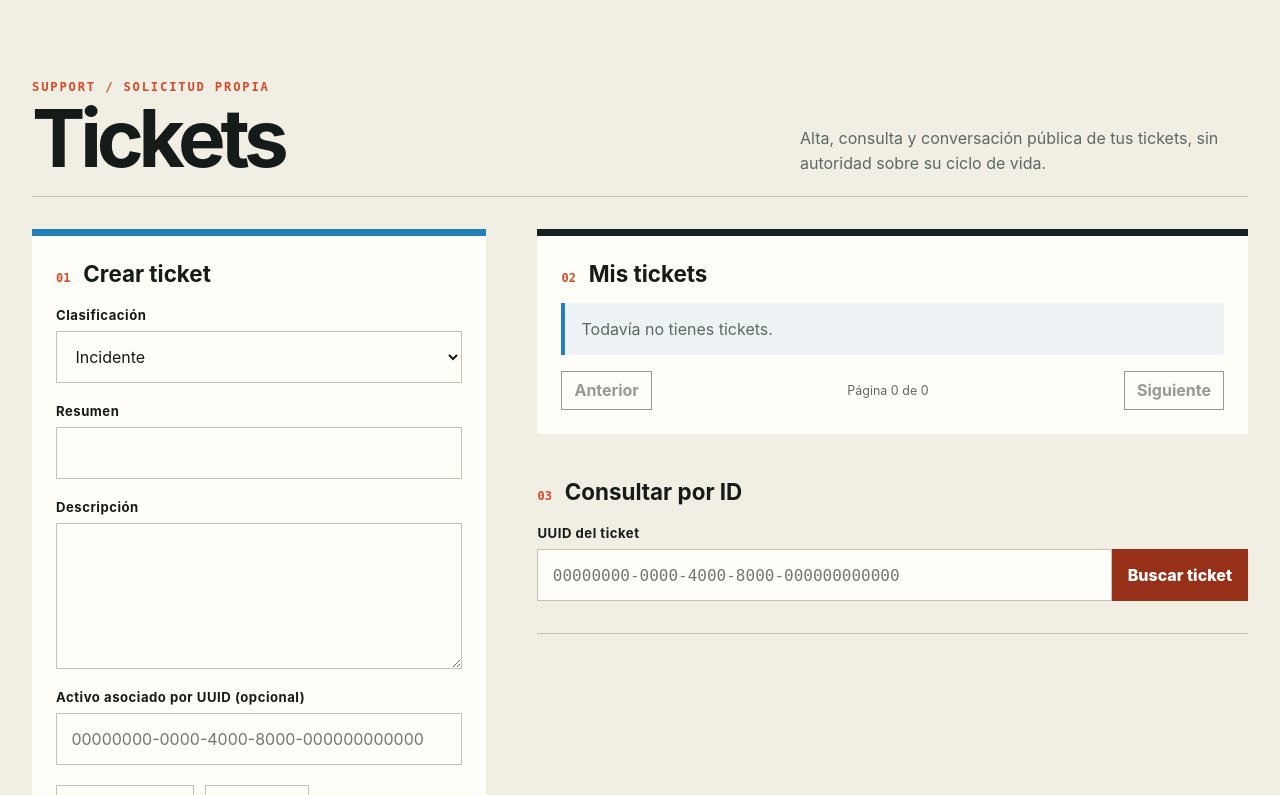
Scenario: TicketWorkspace › validates optional asset and lookup identifiers before requesting
Expected: the text "Todavía no tienes tickets." is shown, [562, 303, 1224, 355]
Type "Printer unavailable" into the field labelled "Resumen" at x=259, y=453, box [56, 427, 462, 479]
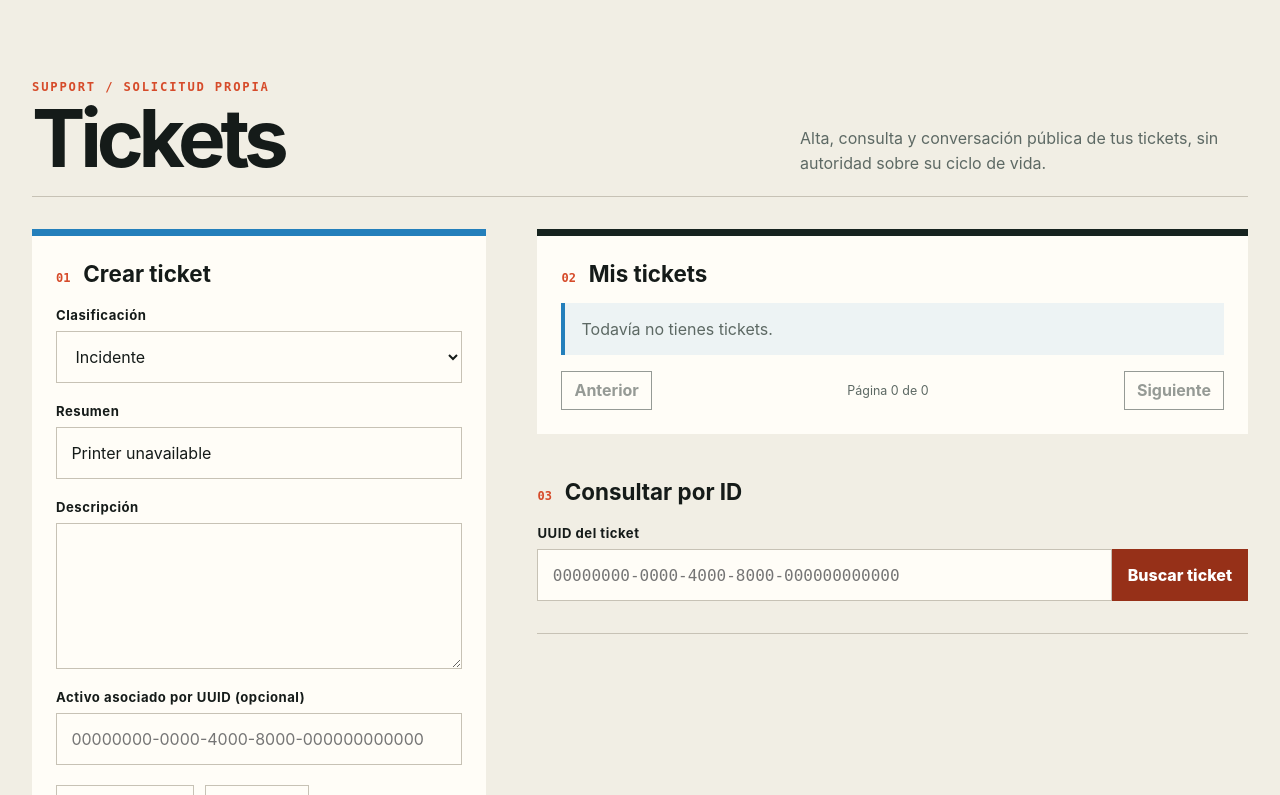
Type "The reception printer is offline." into the text box labelled "Descripción" at x=259, y=596, box [56, 523, 462, 669]
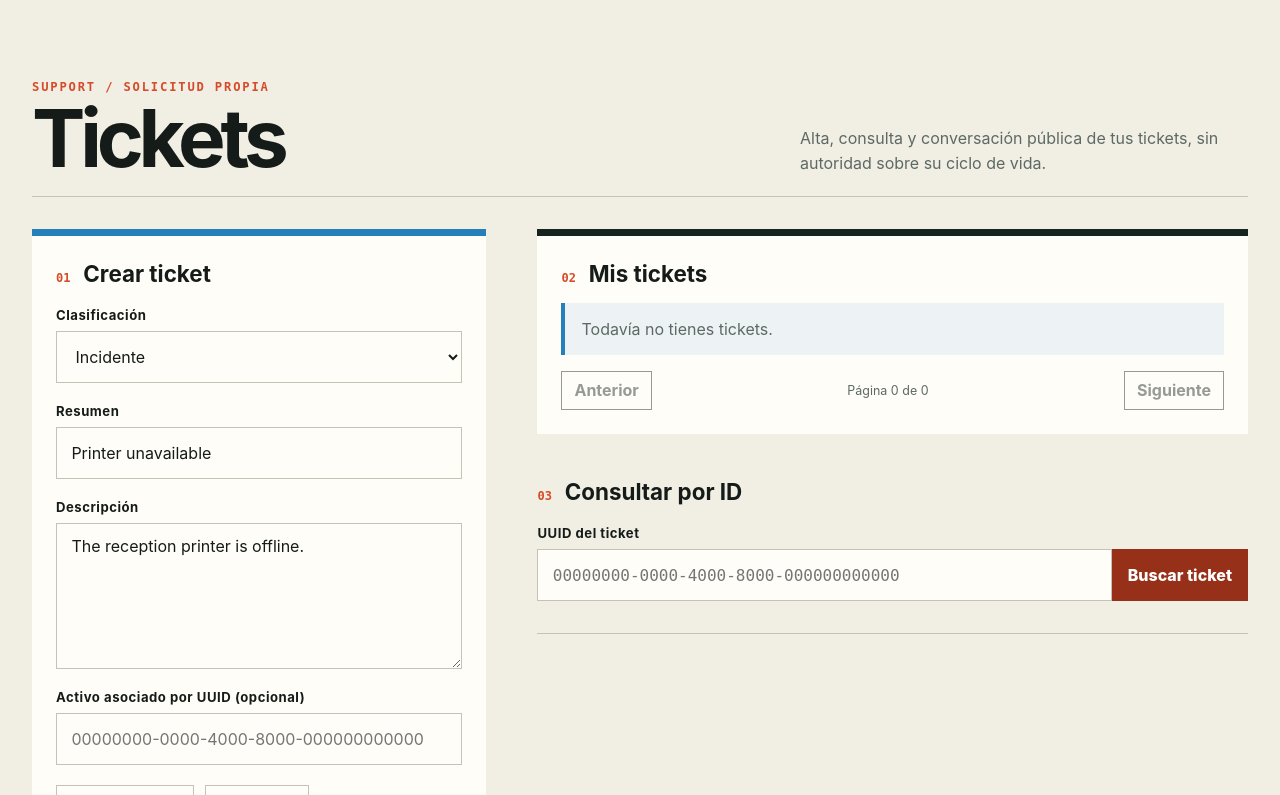
Type "invalid" into the field labelled "Activo asociado por UUID (opcional)" at x=259, y=739, box [56, 713, 462, 765]
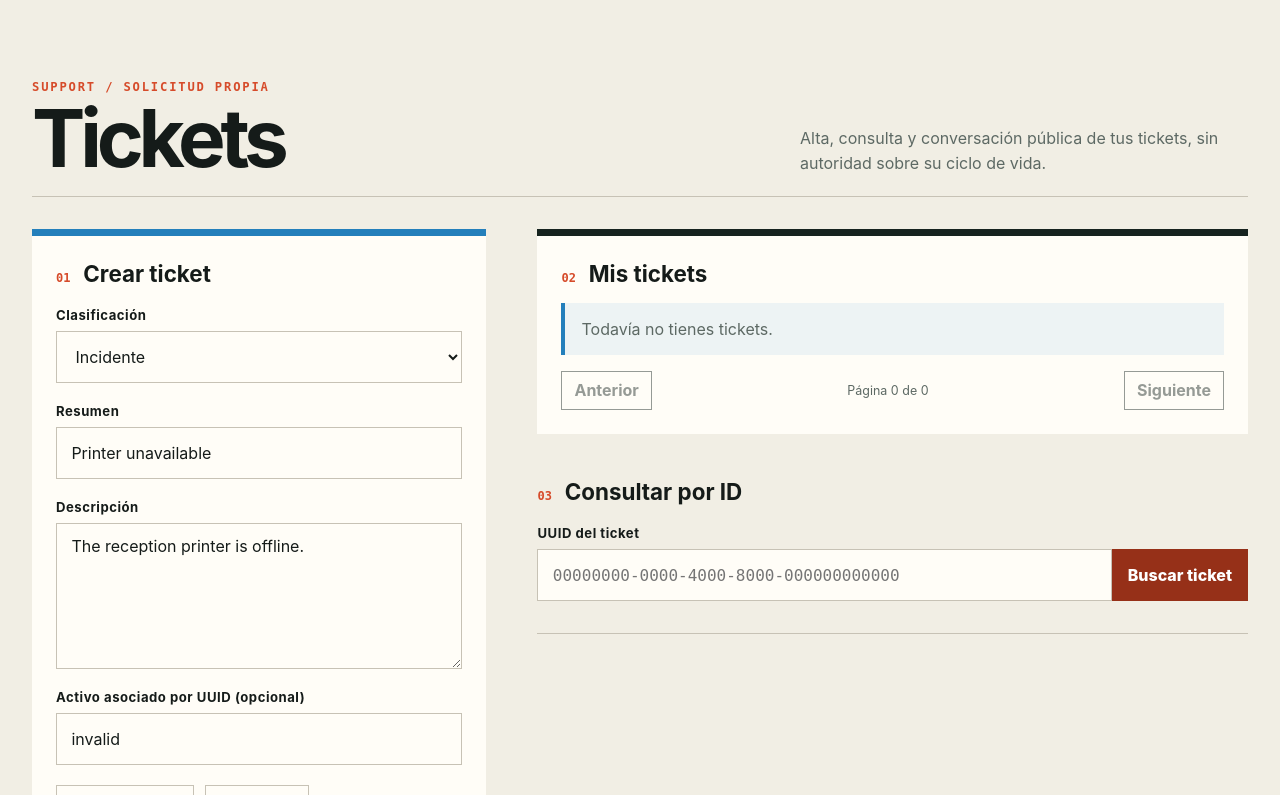
Type "not-a-uuid" into the field labelled "UUID del ticket" at x=825, y=575, box [538, 549, 1112, 601]
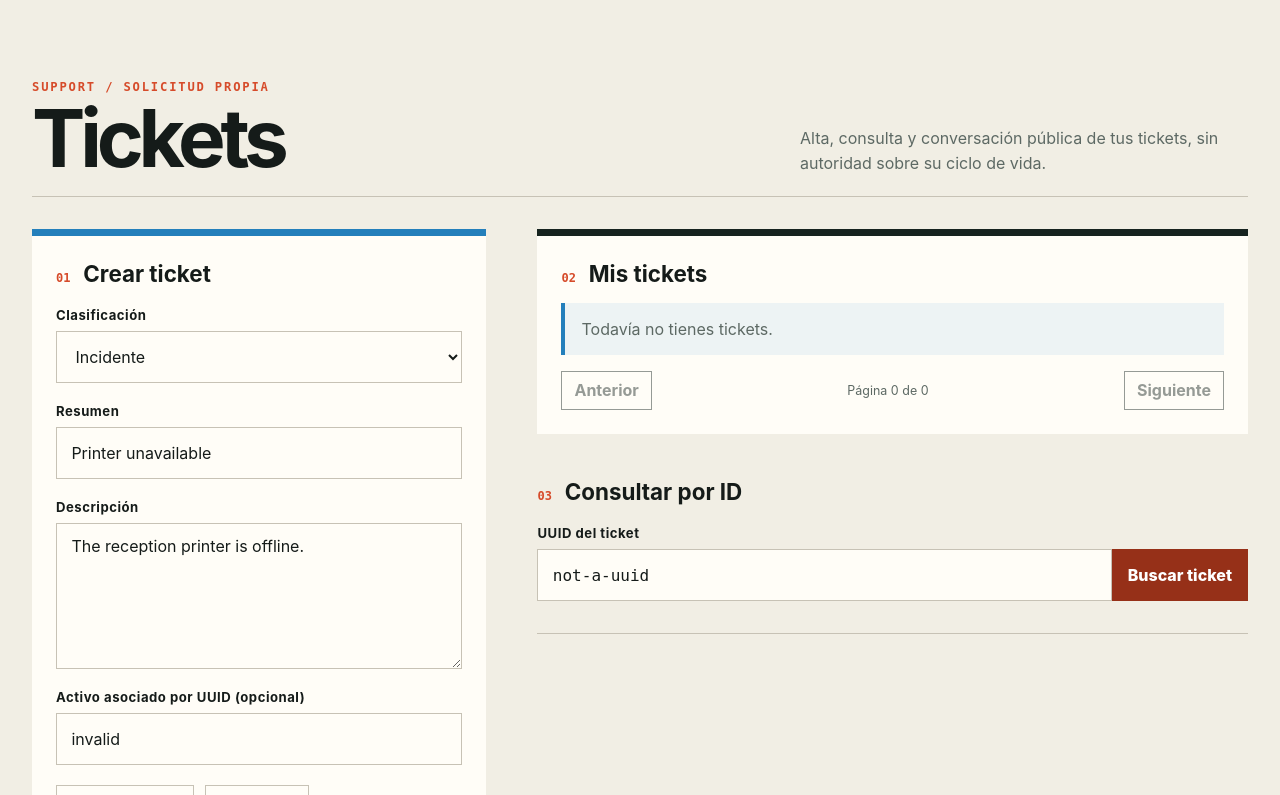
Click the button "Buscar ticket" at x=1180, y=575, box [1112, 549, 1248, 601]
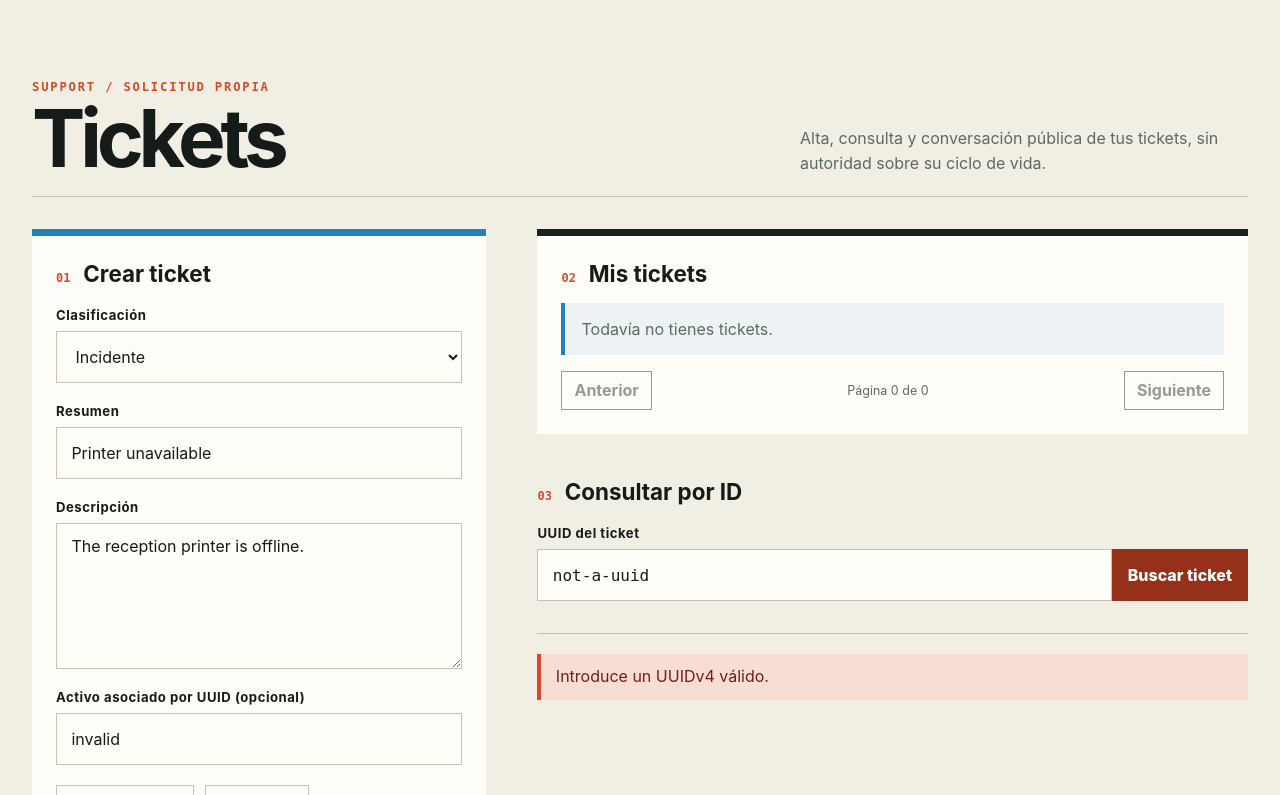
Expected: the message shows "UUIDv4 válido", [556, 666, 769, 686]
